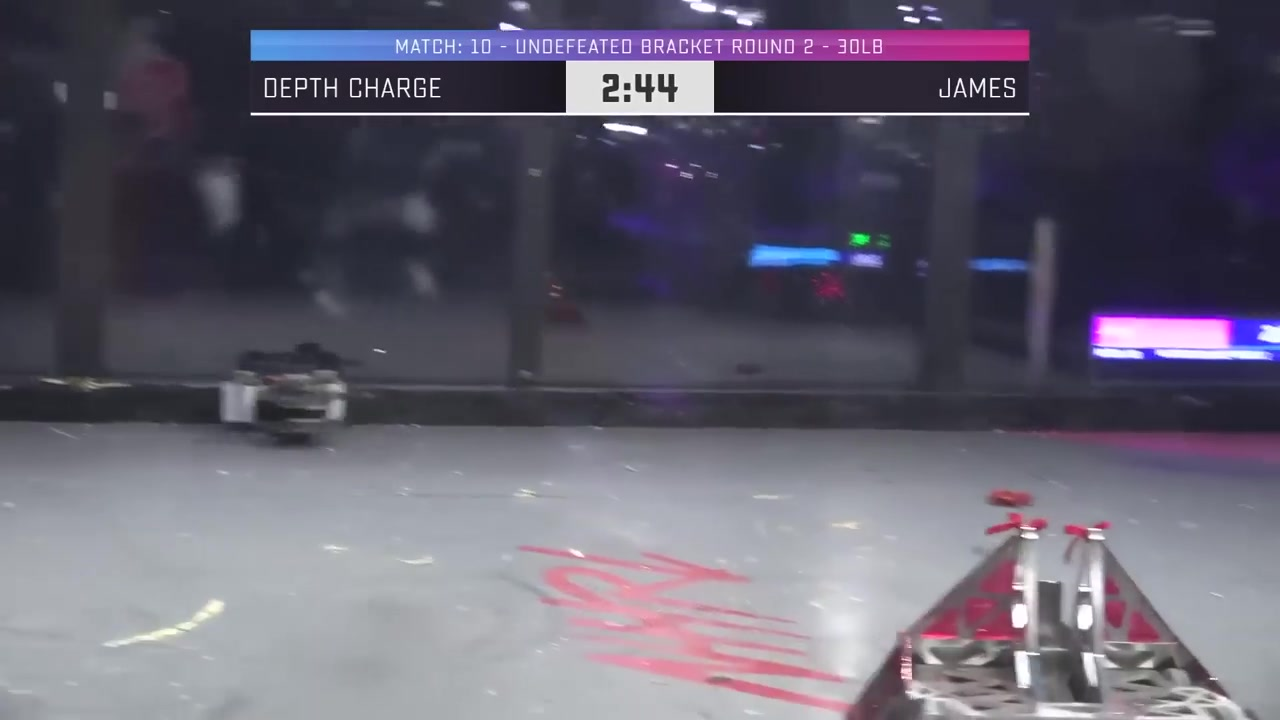combatbot: (845, 518, 1258, 720), (219, 350, 353, 453)
debris: (986, 487, 1033, 508)
